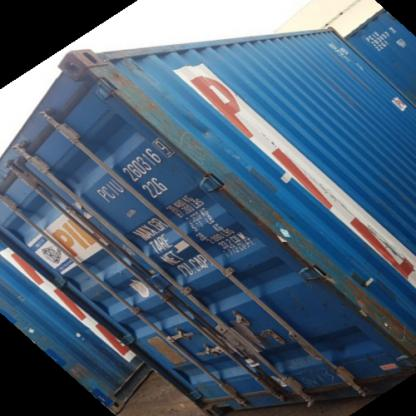Damage: (76, 57, 182, 138), (313, 264, 411, 351), (174, 134, 254, 204), (240, 200, 320, 270), (284, 363, 356, 393)
